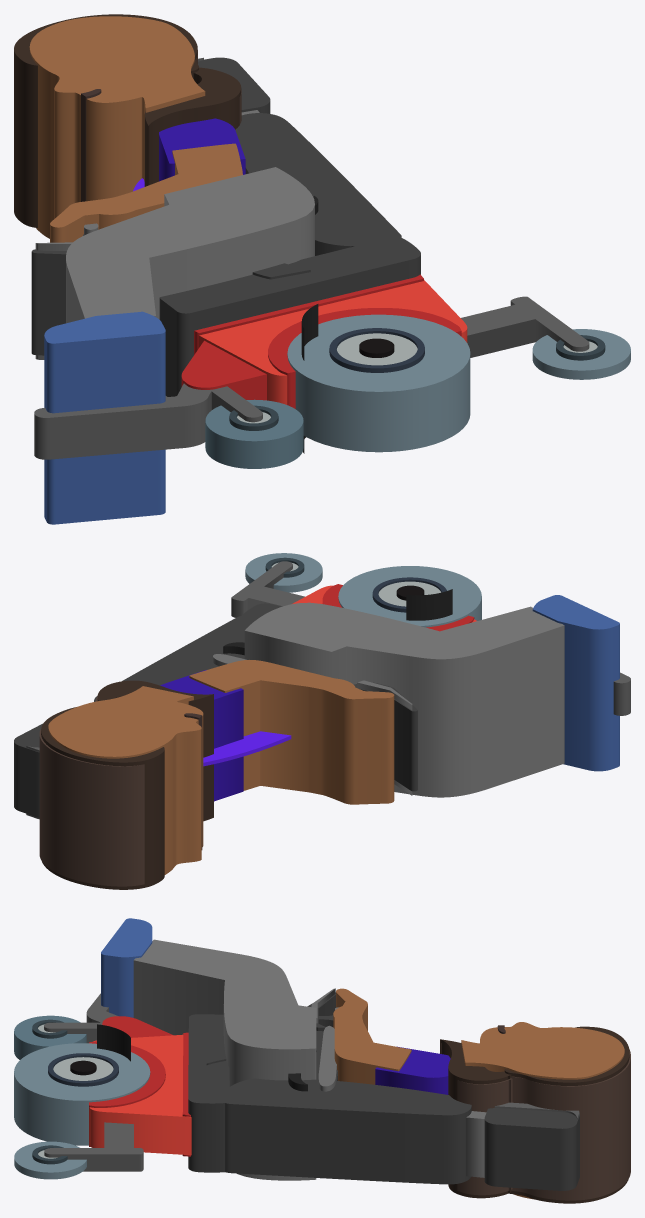
The model's file is emoji_u1f469_1f3fe_200d_1f9bc.glb.
3 renders of one model, top to bottom at view 1: azimuth 30°, elevation 25°; view 2: azimuth 150°, elevation 25°; view 3: azimuth 270°, elevation 25°, orthographic. The views are drawn at different scales.
Visible parts, largest first — view 1: emoji_u1f469_1f3fe_200d_1f9bc; view 2: emoji_u1f469_1f3fe_200d_1f9bc; view 3: emoji_u1f469_1f3fe_200d_1f9bc.
Part boxes in pixels (<box>): emoji_u1f469_1f3fe_200d_1f9bc: <box>14,14,630,524</box>; emoji_u1f469_1f3fe_200d_1f9bc: <box>14,553,630,889</box>; emoji_u1f469_1f3fe_200d_1f9bc: <box>14,918,630,1203</box>.
Bounding box in the file's own units: 0.0242 × 0.0078 × 0.0324.
